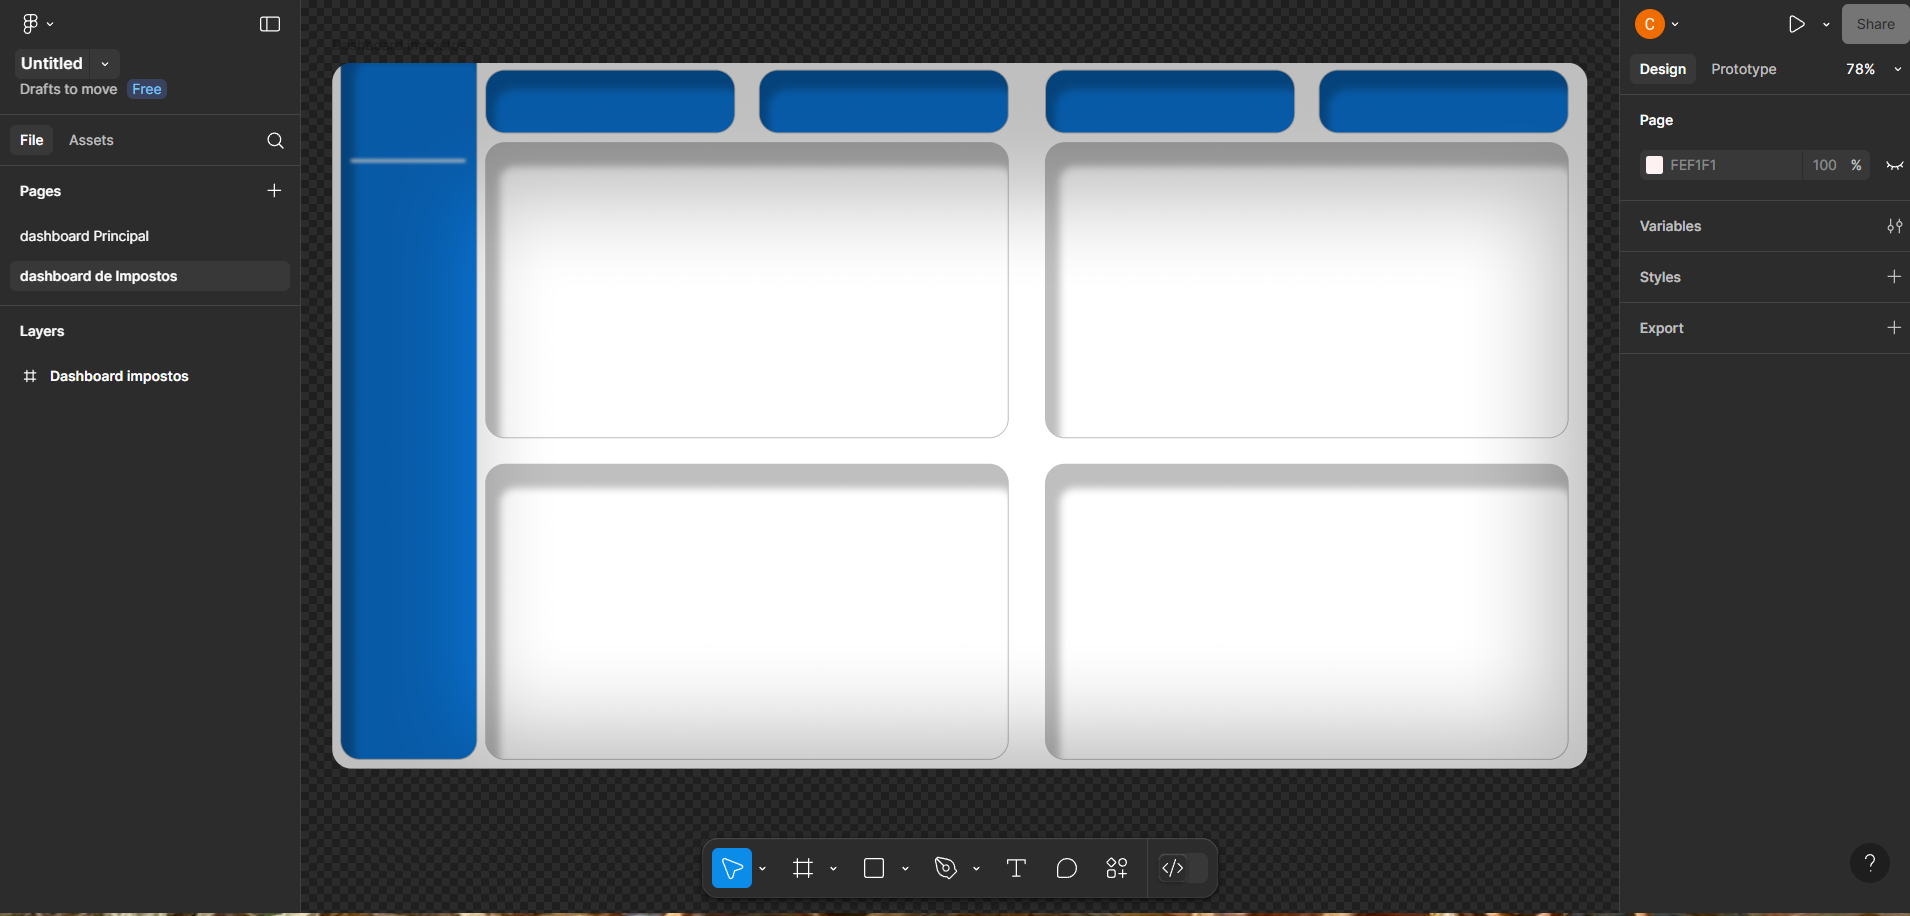

The dashboard page shown, as its layout file describes it:
{"tool":"powerbi","page":{"name":"Impostos","canvas":[1280,720],"ordinal":1},"visuals":[{"type":"image","box":[0,0,1280,720],"z":0},{"type":"kpi","title":"impostos no primeiro Trimestre","fields":{"TrendLine":["Power BI.primeiro bimestre"],"Indicator":["Sum(Power BI.Total_Impostos)"]},"box":[165,18.8,248.8,58.8],"z":1},{"type":"kpi","title":"impostos no segundo Trimestre","fields":{"Indicator":["Sum(Power BI.Total_Impostos)"],"TrendLine":["Power BI.Segundo Trimestre"]},"box":[445,18.8,248.8,58.8],"z":2},{"type":"kpi","title":"impostos no terceiro Trimestre","fields":{"Indicator":["Sum(Power BI.Total_Impostos)"],"TrendLine":["Power BI.Terceiro Trimestre"]},"box":[735,18.8,248.8,58.8],"z":3},{"type":"kpi","title":"impostos no quarto Trimestre","fields":{"Indicator":["Sum(Power BI.Total_Impostos)"],"TrendLine":["Power BI.Quarto Trimestre"]},"box":[1012.5,18.8,248.8,58.8],"z":4},{"type":"clusteredColumnChart","fields":{"Category":["Power BI.Mês"],"Y":["Sum(Power BI.COFINS)"]},"box":[165,90,528.8,292.5],"z":6},{"type":"clusteredColumnChart","fields":{"Category":["Power BI.Mês"],"Y":["Sum(Power BI.Total_Impostos)"]},"box":[738.8,414.4,528.6,292.8],"z":7},{"type":"columnChart","fields":{"Category":["Power BI.Mês"],"Y":["Sum(Power BI.ICMS Total)"]},"box":[165.2,414.4,528.6,292.8],"z":8},{"type":"clusteredColumnChart","fields":{"Category":["Power BI.Mês"],"Y":["Sum(Power BI.PIS)"]},"box":[738.8,90.1,528.6,292.8],"z":9},{"type":"slicer","fields":{"Values":["Power BI.Primeiro Trimestre","Power BI.Segundo Trimestre","Power BI.Terceiro Trimestre","Power BI.Quarto Trimestre"]},"box":[16.5,276.3,139.7,84.1],"z":10},{"type":"slicer","fields":{"Values":["Power BI.Mês"]},"box":[18,154.7,139.7,82.6],"z":11},{"type":"shape","box":[34.8,64,13,28.5],"z":12},{"type":"shape","box":[55.4,51.2,12.9,41.3],"z":13},{"type":"shape","box":[75.4,35.7,12.9,56.8],"z":14},{"type":"shape","box":[97,26.4,12.9,66.1],"z":15},{"type":"shape","box":[118.3,19,12.9,73.5],"z":16},{"type":"shape","box":[26.9,12.7,113.5,81.9],"z":17}]}

Visuals, with their boxes on the page's 1280x720 design canvas (x1, y1, x2, y2). These are canvas units, not pixel positions in the 1910x916 screenshot, which may show the page scaled, cropped or inside an application window:
image: <region>0, 0, 1280, 720</region>
"impostos no primeiro Trimestre" kpi: <region>165, 19, 414, 78</region>
"impostos no segundo Trimestre" kpi: <region>445, 19, 694, 78</region>
"impostos no terceiro Trimestre" kpi: <region>735, 19, 984, 78</region>
"impostos no quarto Trimestre" kpi: <region>1012, 19, 1261, 78</region>
clusteredColumnChart - Power BI.Mês x Sum(Power BI.COFINS): <region>165, 90, 694, 382</region>
clusteredColumnChart - Power BI.Mês x Sum(Power BI.Total_Impostos): <region>739, 414, 1267, 707</region>
columnChart - Power BI.Mês x Sum(Power BI.ICMS Total): <region>165, 414, 694, 707</region>
clusteredColumnChart - Power BI.Mês x Sum(Power BI.PIS): <region>739, 90, 1267, 383</region>
slicer - Power BI.Primeiro Trimestre x Power BI.Segundo Trimestre: <region>16, 276, 156, 360</region>
slicer - Power BI.Mês: <region>18, 155, 158, 237</region>
shape: <region>35, 64, 48, 92</region>
shape: <region>55, 51, 68, 92</region>
shape: <region>75, 36, 88, 92</region>
shape: <region>97, 26, 110, 92</region>
shape: <region>118, 19, 131, 92</region>
shape: <region>27, 13, 140, 95</region>
